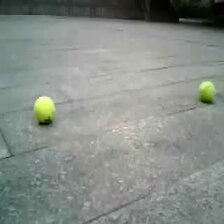tennis: (35, 96, 56, 121), (198, 81, 215, 101)
